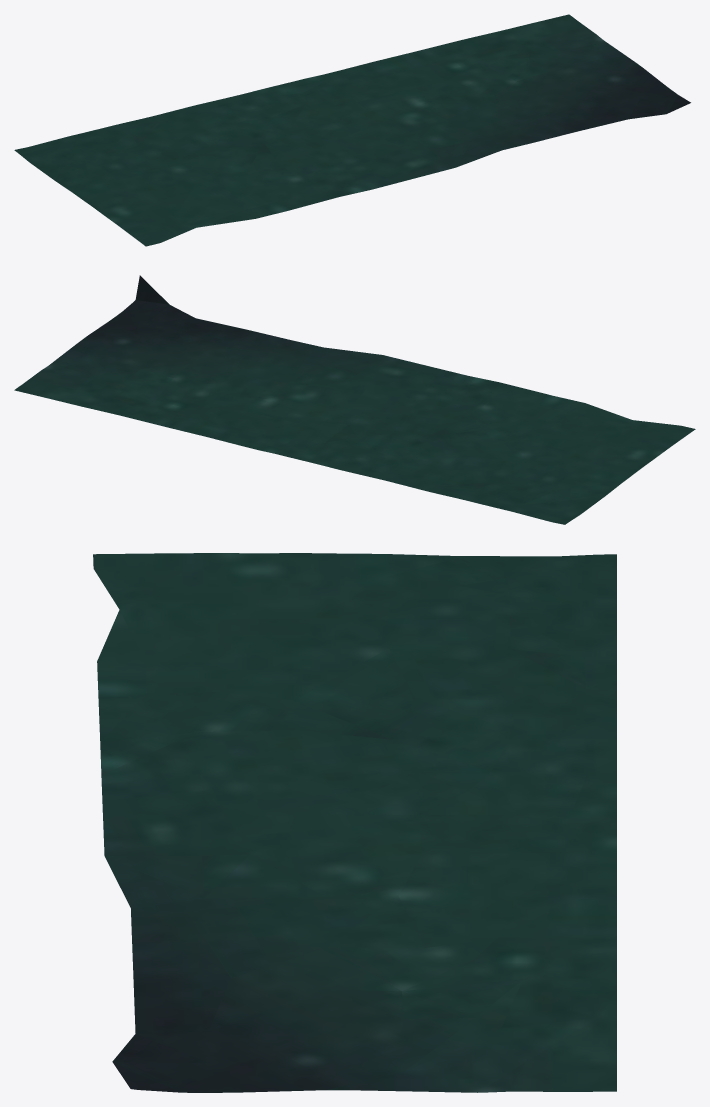
3 renders of one model, top to bottom at view 1: azimuth 30°, elevation 25°; view 2: azimuth 150°, elevation 25°; view 3: azimuth 270°, elevation 25°, orthographic. The views are drawn at different scales.
Bounding box in the file's own units: 52.22 × 2.22 × 21.5.
1 material, 1 textured.
